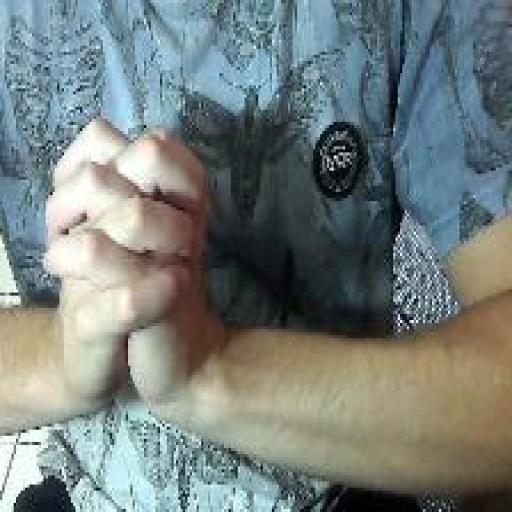Mi -snake-: (38, 108, 218, 438)
